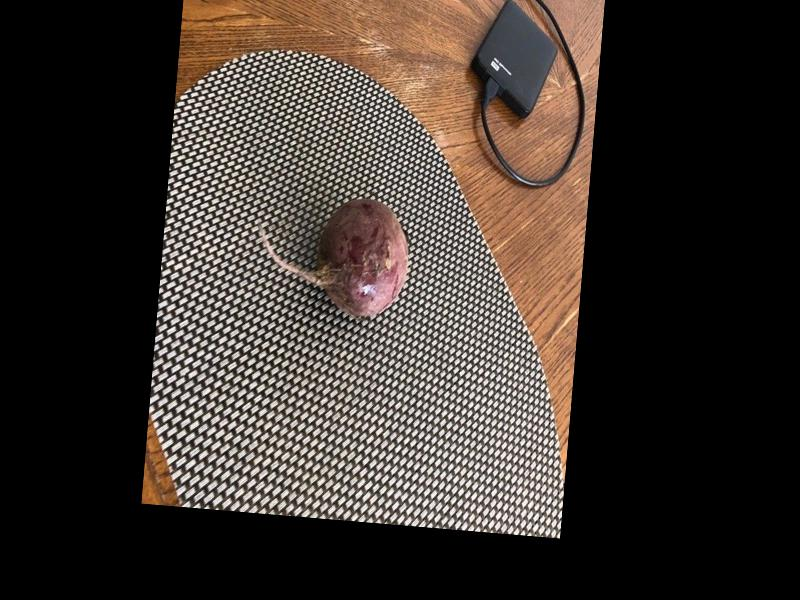Beet: (250, 190, 412, 320)
